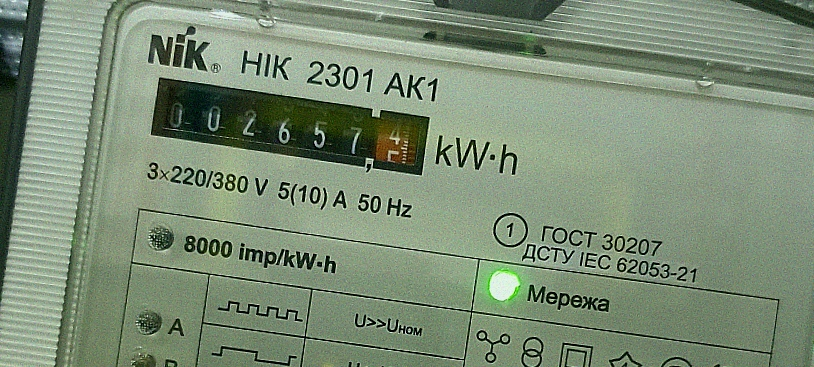0: (165, 98, 186, 128), (203, 101, 222, 132)
2: (239, 106, 259, 137)
4: (386, 118, 404, 145)
5: (309, 117, 329, 149), (384, 147, 401, 163)
6: (275, 113, 293, 144)
7: (345, 122, 363, 155)
screen: (139, 64, 442, 187)
